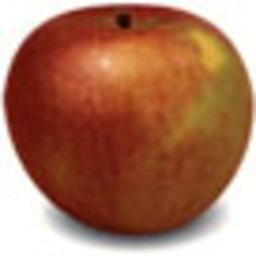apple: (2, 4, 253, 235)
